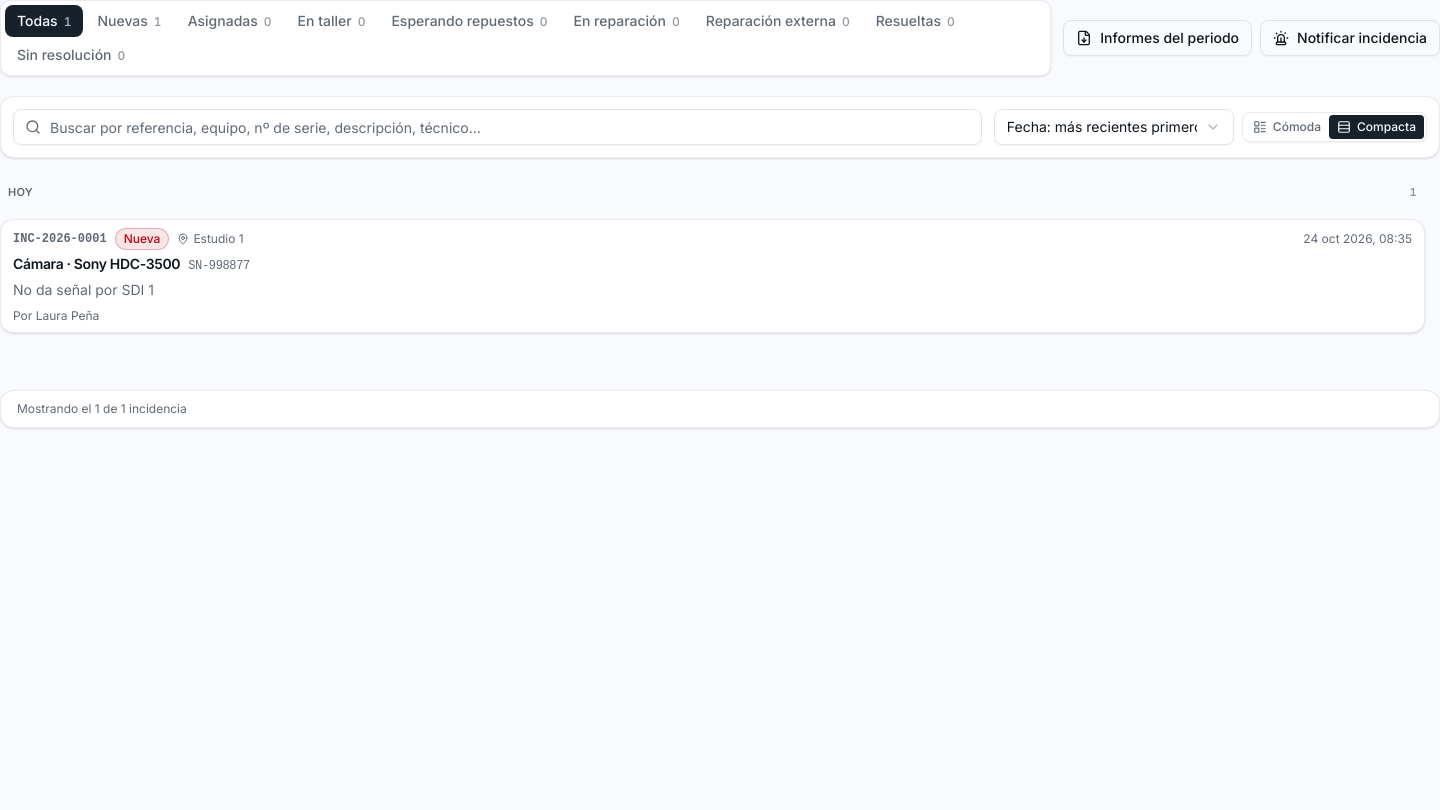
IncidentsView flow and rendering › abre el diálogo de informes al pulsar Informes del periodo
Click the button "Informes del periodo" at [1158, 38], box [1063,20,1252,56]
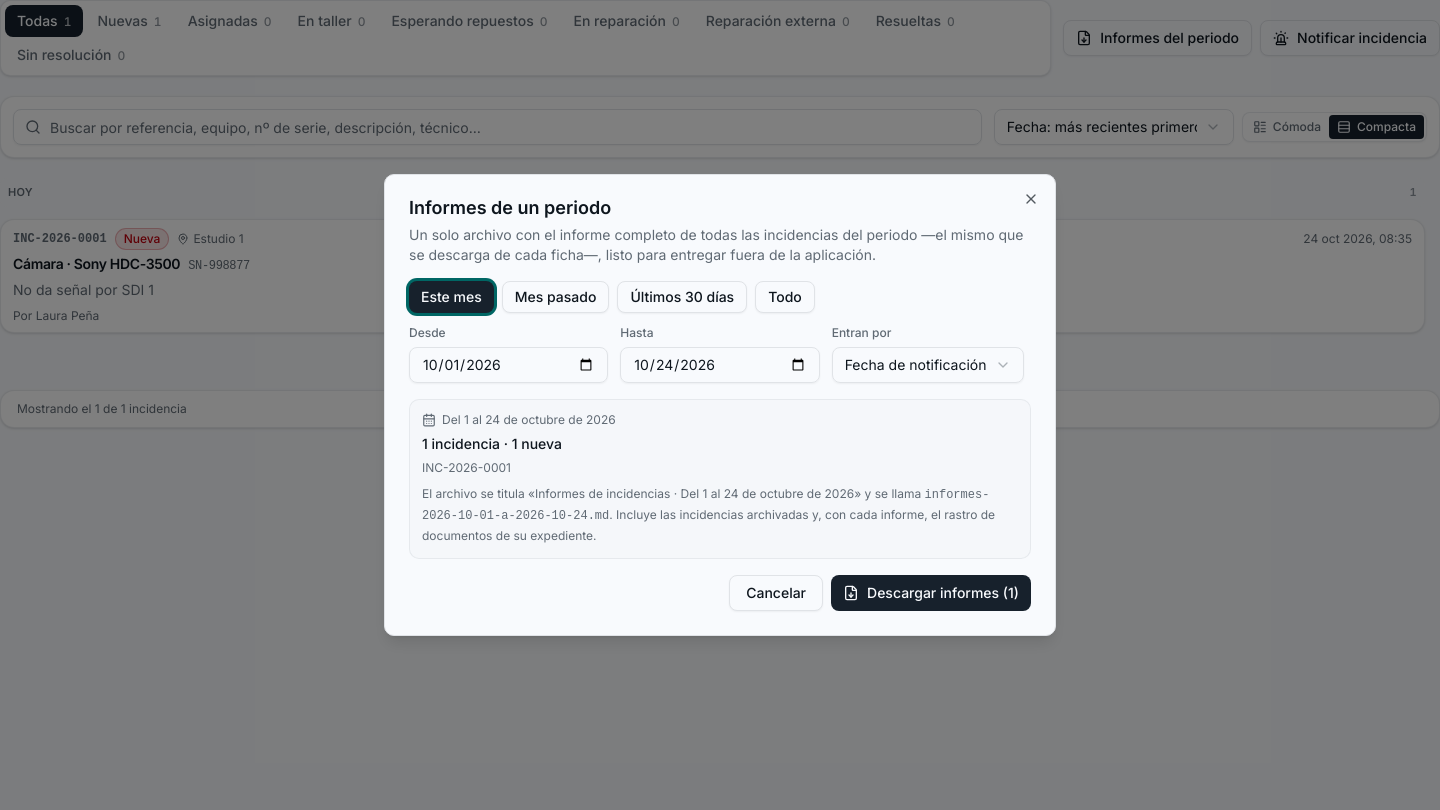
expect the text "Informes de un periodo" is shown: met, box [409,197,611,218]
